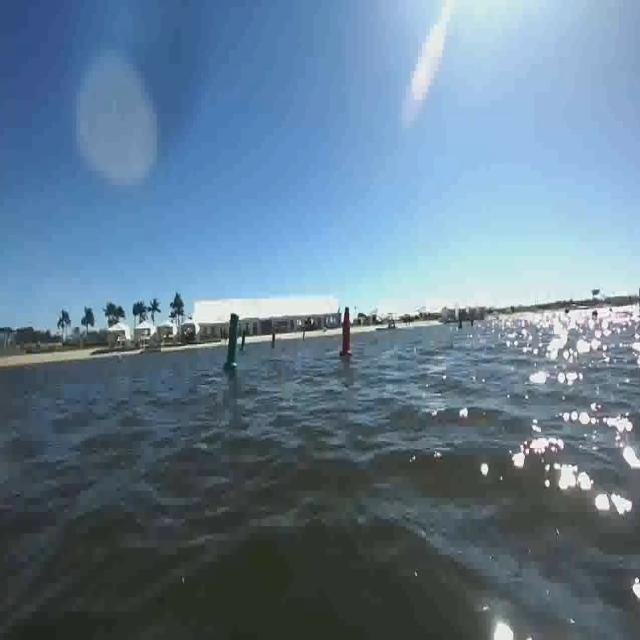green-column-buoy: (224, 312, 243, 372), (241, 329, 248, 350)
red-column-buoy: (339, 306, 355, 358)
